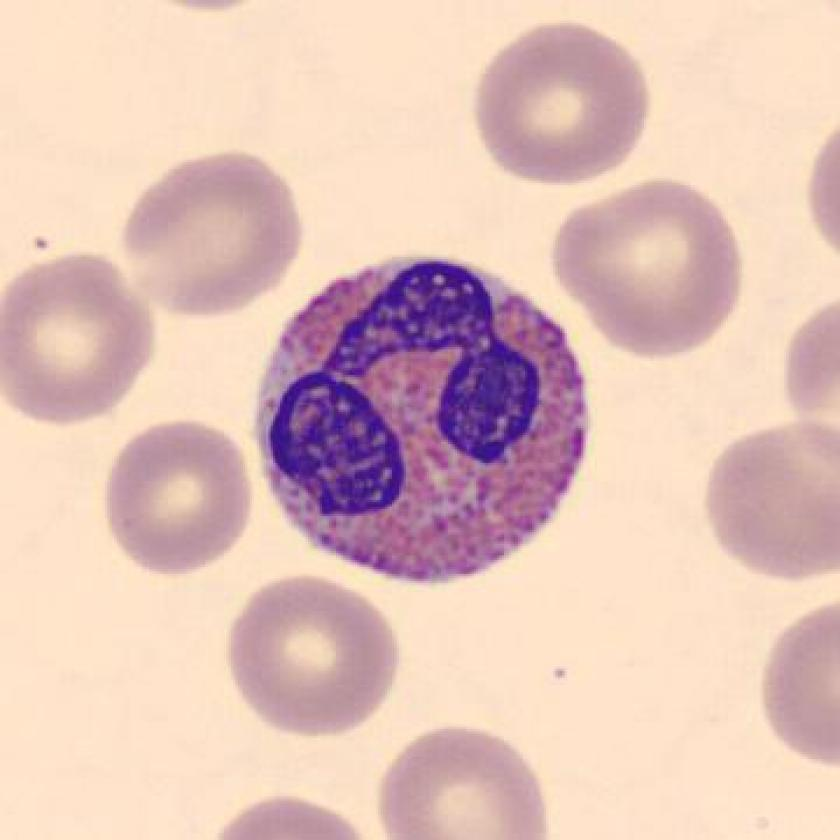eosinophil: (248, 240, 603, 594)
